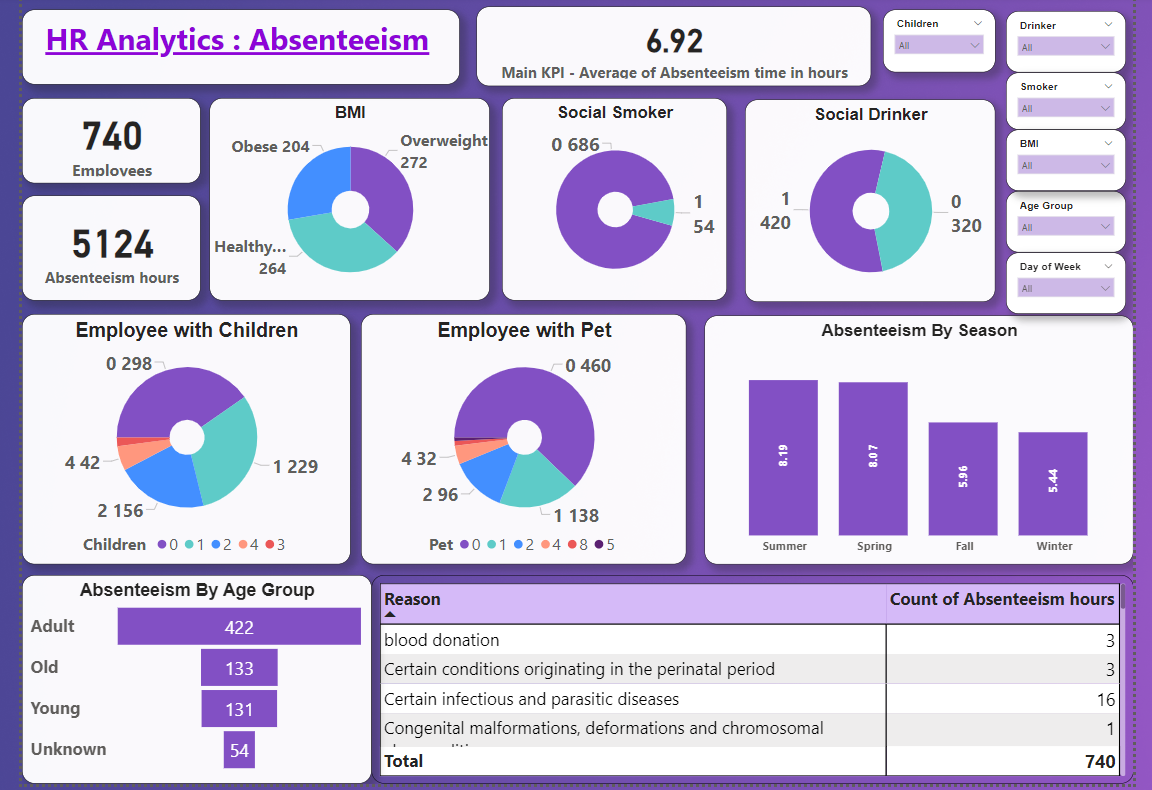

The dashboard page shown, as its layout file describes it:
{"tool":"powerbi","page":{"name":"Page 1","canvas":[1580,1120],"ordinal":0},"visuals":[{"type":"card","fields":{"Values":["Avg(Query1.Absenteeism_time_in_hours)"]},"box":[646.4,14.9,561.1,113.1],"z":0},{"type":"donutChart","title":"Social Smoker ","fields":{"Y":["CountNonNull(Query1.Social_smoker)"],"Category":["Query1.Social_smoker"]},"box":[682.7,145.1,320,288],"z":1000},{"type":"card","fields":{"Values":["CountNonNull(Query1.ID)"]},"box":[0,144.7,253.9,121.6],"z":2000},{"type":"card","fields":{"Values":["Sum(Query1.Absenteeism_time_in_hours)"]},"box":[0,283.7,253.9,149.3],"z":3000},{"type":"donutChart","title":"Employee with Children","fields":{"Category":["Query1.Son"],"Y":["CountNonNull(Query1.Absenteeism_time_in_hours)"]},"box":[0,452.3,467.2,356.3],"z":4000},{"type":"donutChart","title":"Employee with Pet","fields":{"Category":["Query1.Pet"],"Y":["CountNonNull(Query1.Absenteeism_time_in_hours)"]},"box":[482.1,452.3,462.9,356.3],"z":5000},{"type":"donutChart","title":"Social Drinker","fields":{"Category":["Query1.Social_drinker"],"Y":["CountNonNull(Query1.Social_drinker)"]},"box":[1028.3,147.2,356.3,288],"z":6000},{"type":"donutChart","title":"BMI","fields":{"Category":["Query1.BMI_Category"],"Y":["CountNonNull(Query1.BMI_Category)"]},"box":[266.7,145.1,398.9,288],"z":7000},{"type":"textbox","box":[0,19.2,622.9,106.7],"z":8000},{"type":"slicer","fields":{"Values":["Query1.Son"]},"box":[1224.5,19.2,160,89.6],"z":9000},{"type":"slicer","fields":{"Values":["Query1.Social_drinker"]},"box":[1399.5,21.3,170.7,87.5],"z":10000},{"type":"slicer","fields":{"Values":["Query1.Social_smoker"]},"box":[1399.5,108.8,170.7,81.1],"z":11000},{"type":"slicer","fields":{"Values":["Query1.Age_Group"]},"box":[1399.5,277.3,170.7,87.5],"z":12000},{"type":"slicer","fields":{"Values":["Query1.BMI_Category"]},"box":[1399.5,189.9,170.7,87.5],"z":13000},{"type":"pivotTable","fields":{"Rows":["Query1.Reason"],"Values":["CountNonNull(Query1.Absenteeism_time_in_hours)"]},"box":[497.1,823.5,1083.7,296.5],"z":14000},{"type":"funnel","title":"Absenteeism By Age Group","fields":{"Category":["Query1.Age_Group"],"Y":["CountNonNull(Query1.Absenteeism_time_in_hours)"]},"box":[0,823.5,497.1,296.5],"z":15000},{"type":"columnChart","title":"Absenteeism By Season","fields":{"Category":["Query1.Season_Names"],"Y":["Avg(Query1.Absenteeism_time_in_hours)"]},"box":[970.7,454.4,610.1,354.1],"z":16000},{"type":"slicer","fields":{"Values":["Query1.Day_of_the_week"]},"box":[1399.5,364.8,170.7,87.5],"z":17000}]}

Visuals, with their boxes in screenshot pixels (x1, y1, x2, y2):
card - Avg(Query1.Absenteeism_time_in_hours): <region>470, 7, 860, 86</region>
"Social Smoker " donutChart: <region>495, 98, 718, 298</region>
card - CountNonNull(Query1.ID): <region>21, 98, 197, 182</region>
card - Sum(Query1.Absenteeism_time_in_hours): <region>21, 194, 197, 298</region>
"Employee with Children" donutChart: <region>21, 311, 346, 559</region>
"Employee with Pet" donutChart: <region>356, 311, 678, 559</region>
"Social Drinker" donutChart: <region>735, 99, 983, 299</region>
"BMI" donutChart: <region>206, 98, 483, 298</region>
textbox: <region>21, 10, 454, 84</region>
slicer - Query1.Son: <region>872, 10, 983, 73</region>
slicer - Query1.Social_drinker: <region>993, 12, 1112, 73</region>
slicer - Query1.Social_smoker: <region>993, 73, 1112, 129</region>
slicer - Query1.Age_Group: <region>993, 190, 1112, 250</region>
slicer - Query1.BMI_Category: <region>993, 129, 1112, 190</region>
pivotTable - Query1.Reason x CountNonNull(Query1.Absenteeism_time_in_hours): <region>366, 569, 1119, 775</region>
"Absenteeism By Age Group" funnel: <region>21, 569, 366, 775</region>
"Absenteeism By Season" columnChart: <region>695, 313, 1119, 559</region>
slicer - Query1.Day_of_the_week: <region>993, 250, 1112, 311</region>
